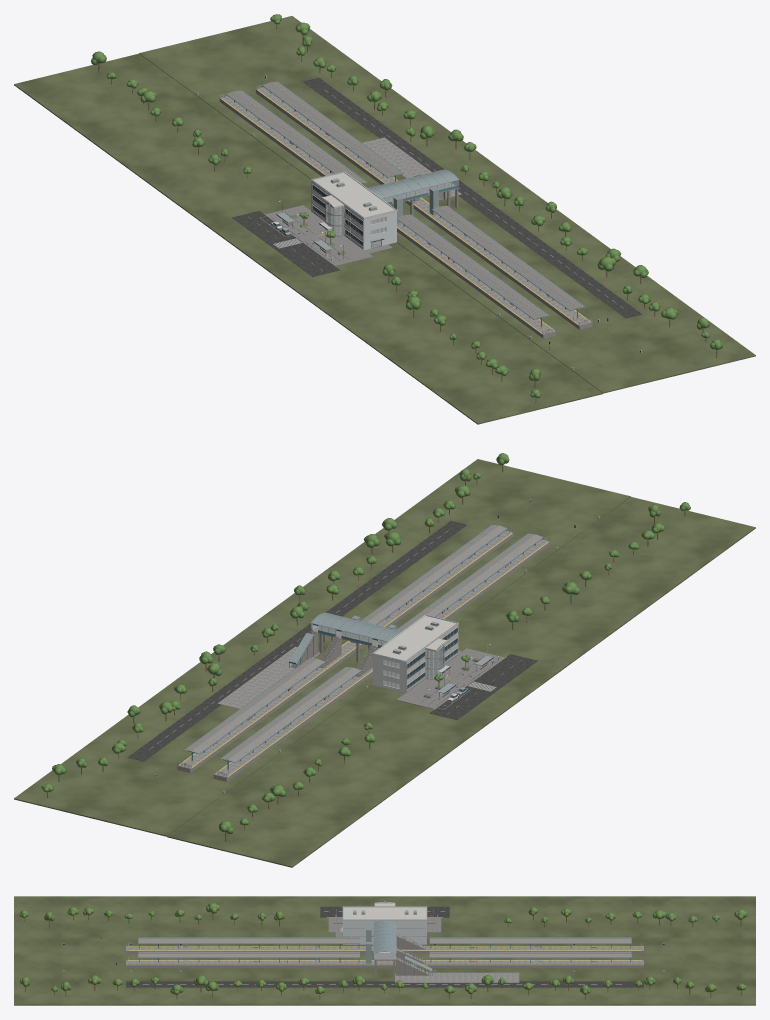
The model's file is OidoStation_Compact.fbx.
3 renders of one model, top to bottom at view 1: azimuth 30°, elevation 25°; view 2: azimuth 150°, elevation 25°; view 3: azimuth 270°, elevation 25°, orthographic. The views are drawn at different scales.
Parts seen in each view (by area): view 1: Ground_Station, Canopy_Station, Platforms_Station, Landscape_Station, Forecourt_Station, Concourse_Station, Transfer_Bridge_Station, Platform_Station, East_Exit_Station; view 2: Ground_Station, Canopy_Station, Platforms_Station, Landscape_Station, Forecourt_Station, Concourse_Station, East_Exit_Station, Transfer_Bridge_Station, Platform_Station, Transfer_Stairs_Station; view 3: Ground_Station, Platforms_Station, Canopy_Station, Landscape_Station, Concourse_Station, Platform_Station, East_Exit_Station, Transfer_Bridge_Station, Forecourt_Station, Transfer_Stairs_Station, Elevators_Station.
Boxes of the visible parts, box(x1,y1,x2,y2) form: Ground_Station: box(14, 16, 755, 424); Canopy_Station: box(226, 81, 585, 327); Platforms_Station: box(219, 84, 592, 338); Landscape_Station: box(91, 14, 722, 403); Forecourt_Station: box(232, 200, 392, 276); Concourse_Station: box(311, 171, 397, 249); Transfer_Bridge_Station: box(367, 169, 458, 215); Platform_Station: box(221, 85, 591, 333); East_Exit_Station: box(362, 137, 461, 199); Ground_Station: box(14, 459, 755, 867); Canopy_Station: box(183, 524, 543, 770); Platforms_Station: box(177, 527, 550, 781); Landscape_Station: box(41, 453, 690, 841); Forecourt_Station: box(396, 643, 537, 719); Concourse_Station: box(372, 614, 458, 693); East_Exit_Station: box(218, 629, 320, 708); Transfer_Bridge_Station: box(311, 612, 402, 662); Platform_Station: box(178, 528, 548, 776); Transfer_Stairs_Station: box(319, 634, 377, 676); Ground_Station: box(14, 896, 755, 1005); Platforms_Station: box(126, 945, 643, 968); Canopy_Station: box(138, 937, 631, 962); Landscape_Station: box(19, 902, 747, 999); Concourse_Station: box(340, 901, 427, 944); Platform_Station: box(128, 943, 641, 964); East_Exit_Station: box(395, 955, 519, 982); Transfer_Bridge_Station: box(373, 920, 396, 976); Forecourt_Station: box(320, 906, 449, 937); Transfer_Stairs_Station: box(396, 932, 425, 963); Elevators_Station: box(366, 928, 373, 963).
Bounding box in the file's own units: 10529 × 1263 × 30396.
